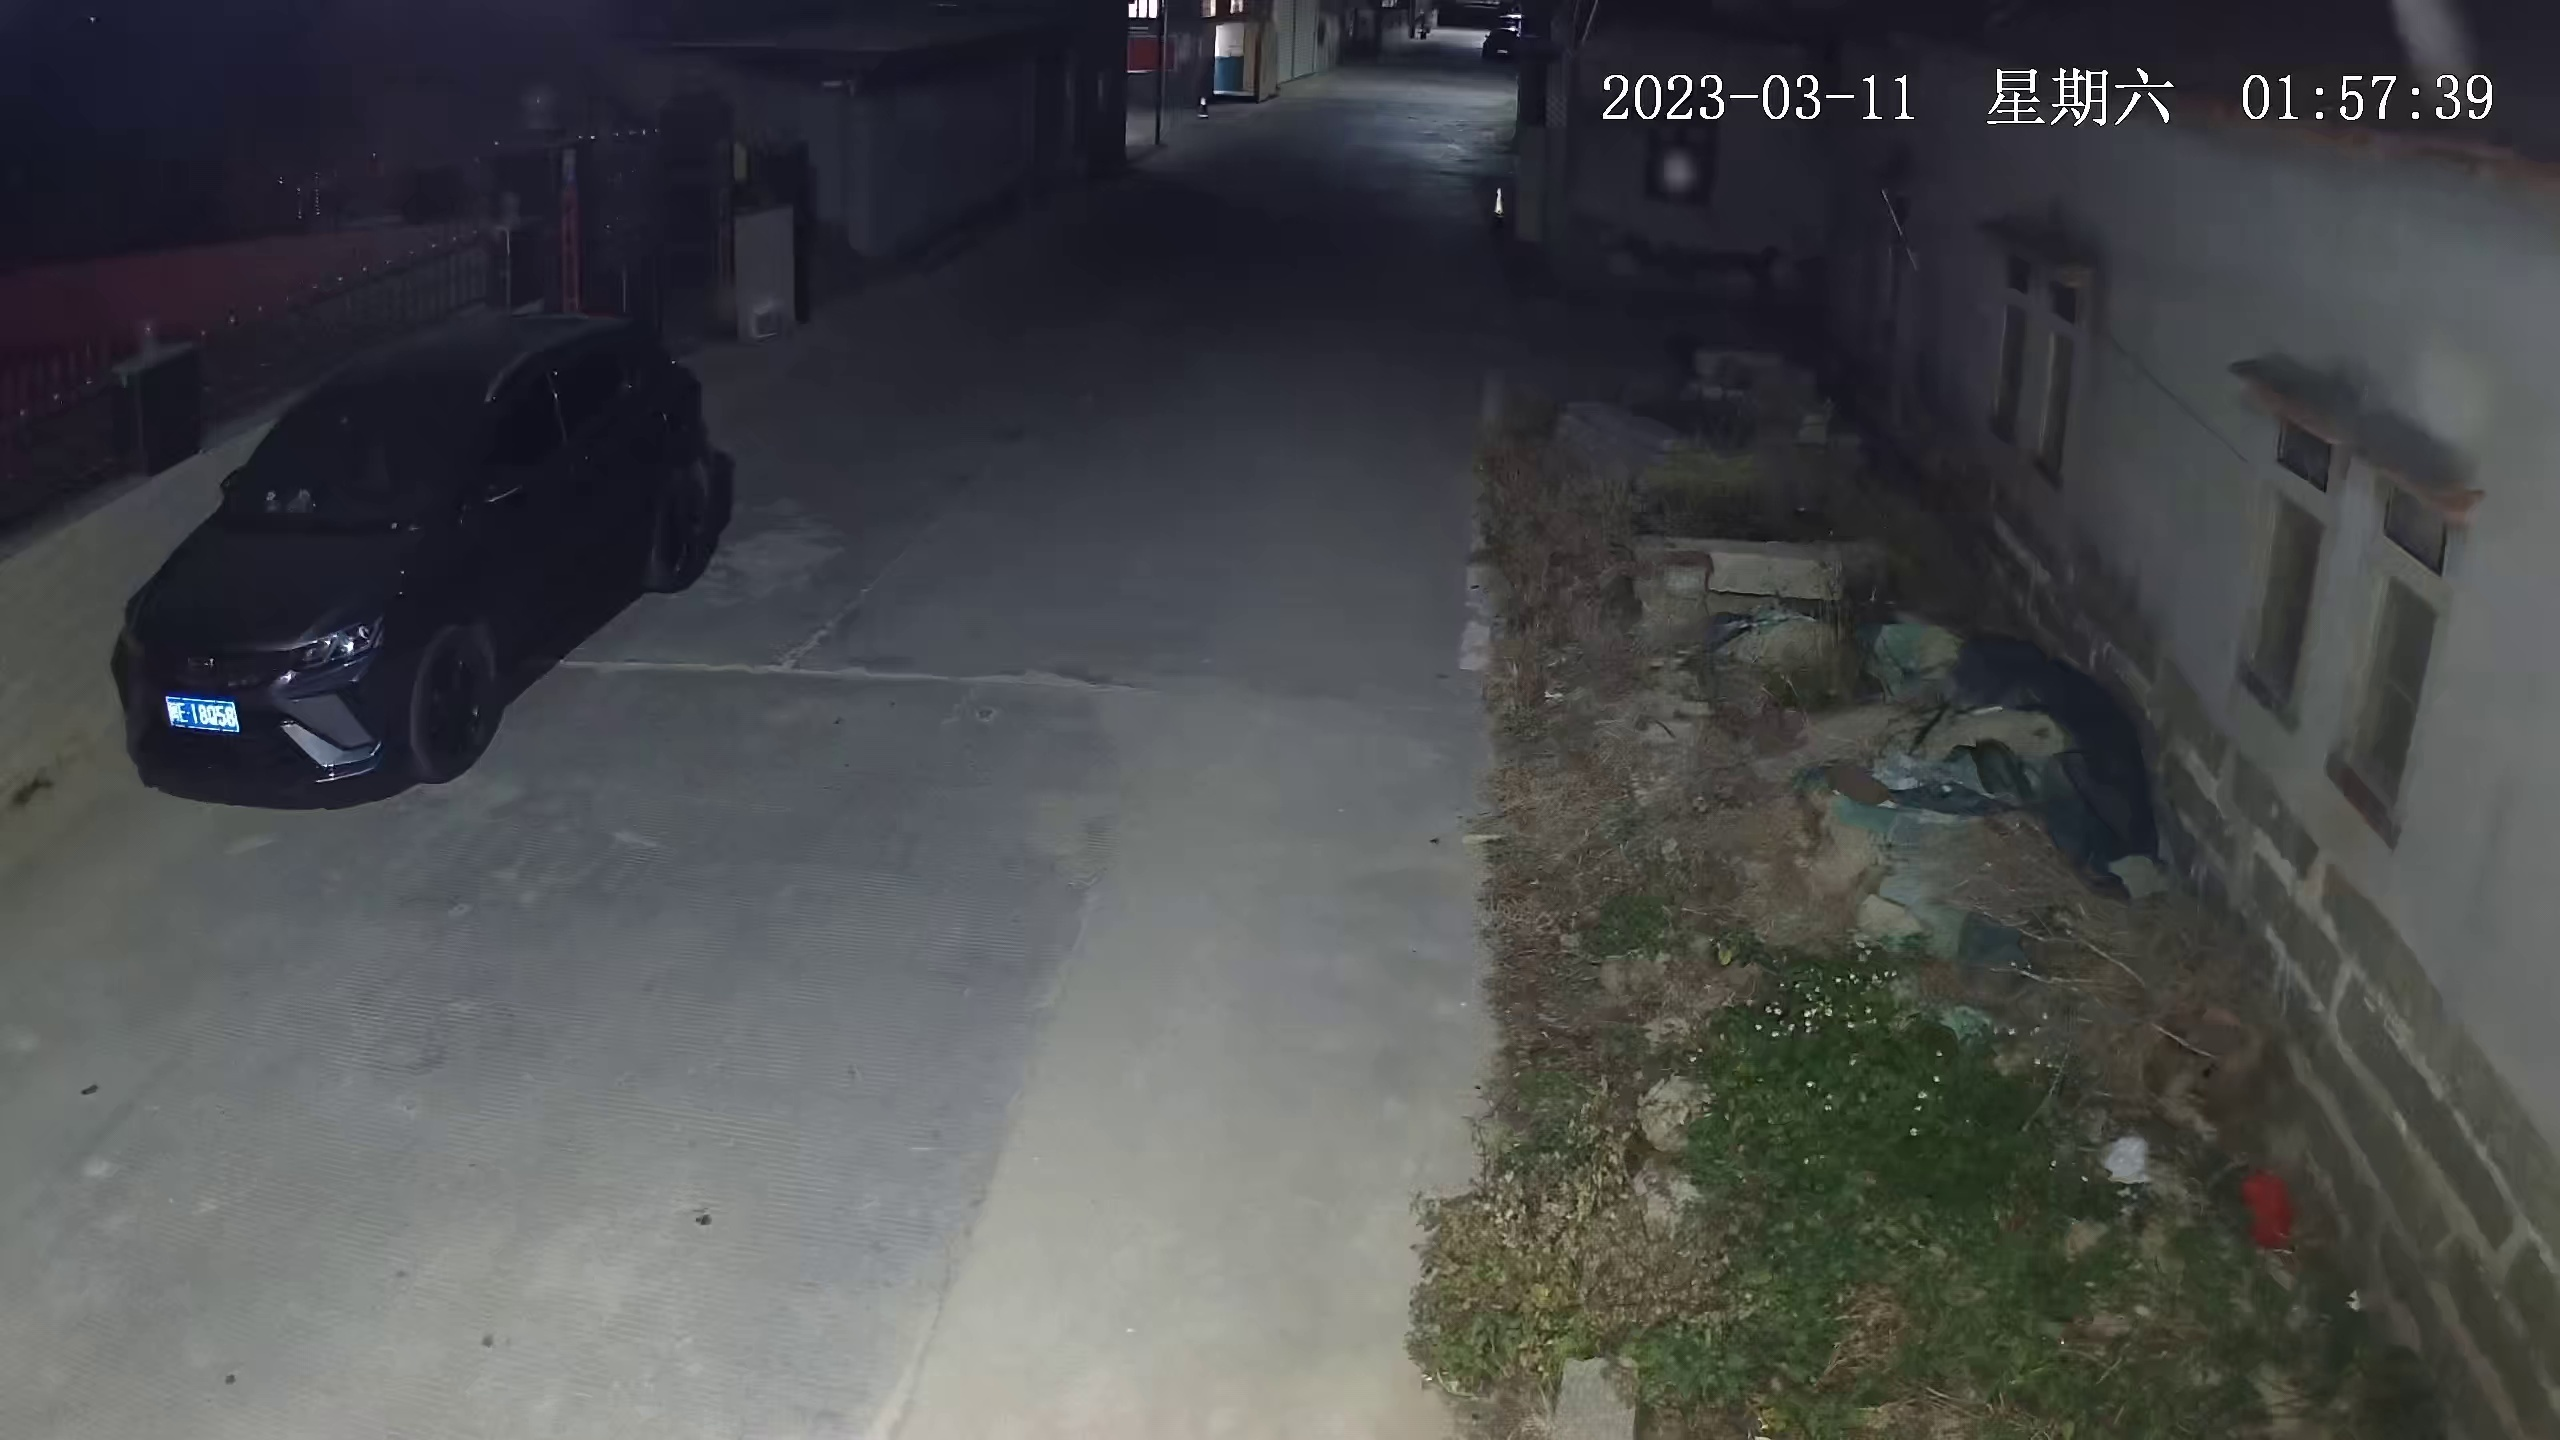sedan: (1479, 28, 1524, 70)
suv: (142, 309, 719, 812)
